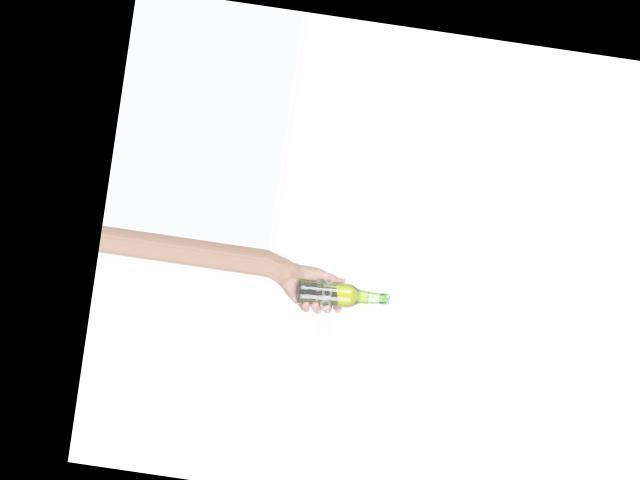beer: (295, 275, 391, 314)
